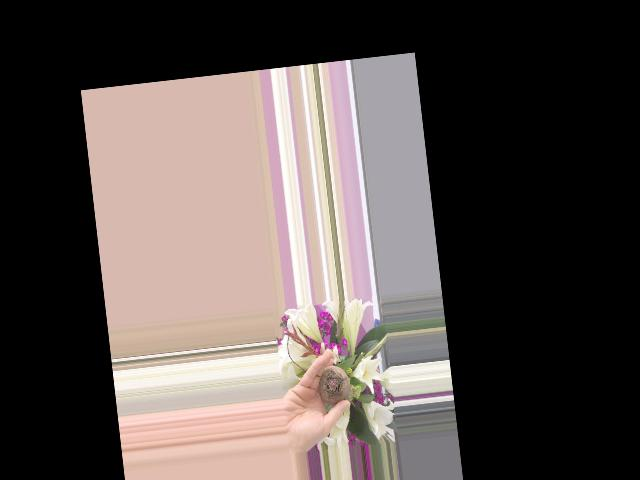beet: (315, 362, 352, 406)
